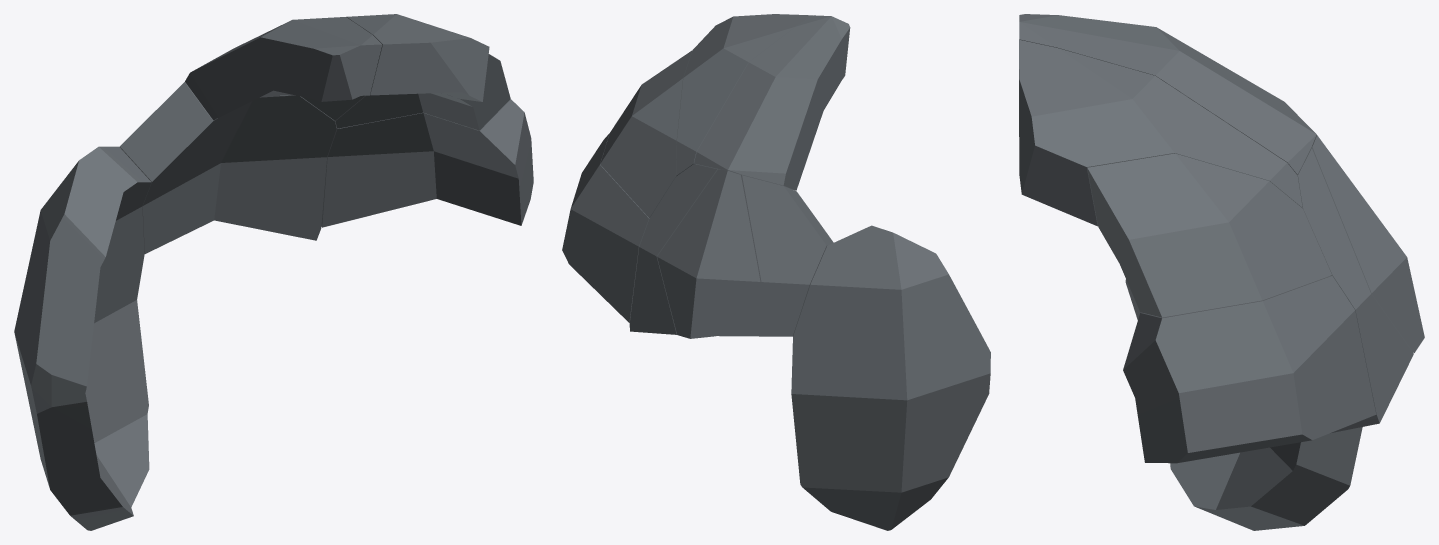
File: Sphere_Fracture_02.DAE
3 views of the same model, side by side, from view 1: azimuth 30°, elevation 25°; view 2: azimuth 150°, elevation 25°; view 3: azimuth 270°, elevation 25° (orthographic). The views are drawn at different scales.
Parts seen in each view (by area): view 1: Sphere_Fracture_02; view 2: Sphere_Fracture_02; view 3: Sphere_Fracture_02.
Boxes of the visible parts, box(x1,y1,x2,y2) form: Sphere_Fracture_02: box(14, 14, 533, 530); Sphere_Fracture_02: box(562, 14, 990, 530); Sphere_Fracture_02: box(1019, 14, 1424, 530).
Bounding box in the file's own units: 1.93 × 1.88 × 1.14.
2 materials, 2 textured.
